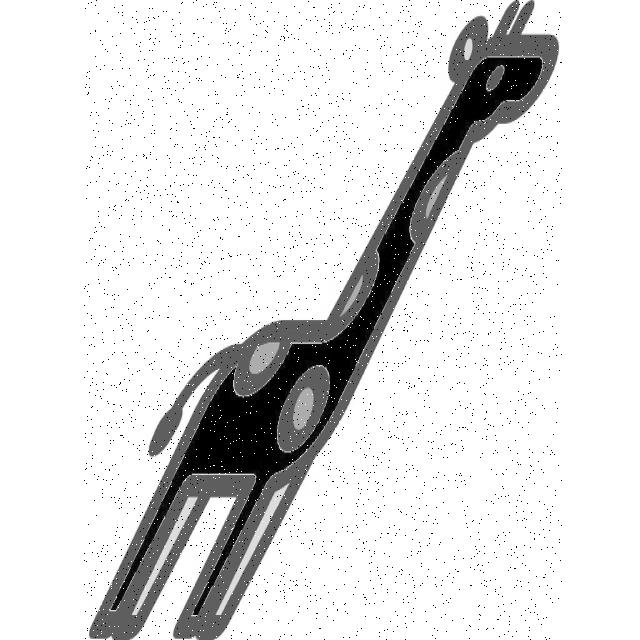girafe: (85, 1, 563, 640)
